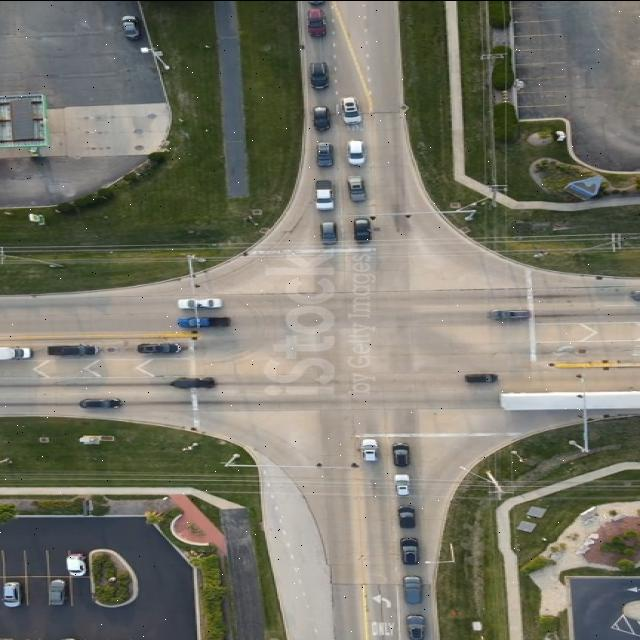car: (48, 344, 100, 356), (310, 61, 330, 89), (308, 9, 328, 37), (402, 537, 422, 564), (176, 299, 220, 311), (404, 576, 424, 602), (343, 96, 363, 122), (408, 614, 428, 640), (66, 551, 88, 574), (2, 581, 22, 606), (179, 296, 223, 307), (354, 216, 374, 240), (173, 377, 216, 388), (313, 105, 332, 129), (0, 346, 32, 360), (122, 16, 142, 38), (138, 342, 182, 352), (348, 139, 366, 163), (317, 141, 335, 165), (82, 397, 124, 407), (488, 306, 530, 316), (350, 176, 368, 199), (178, 317, 219, 327), (392, 444, 410, 466), (320, 220, 338, 242), (361, 439, 379, 461), (466, 370, 500, 380), (398, 473, 413, 495), (464, 374, 498, 383)
pickup-truck: (49, 575, 70, 603)
semi-trailer: (498, 390, 640, 414)
